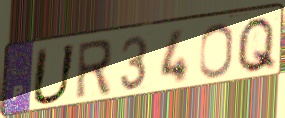3: (118, 33, 152, 93)
4: (158, 27, 192, 86)
O: (198, 21, 235, 80)
Q: (235, 14, 278, 75)
R: (73, 37, 114, 103)
U: (29, 42, 79, 107)
